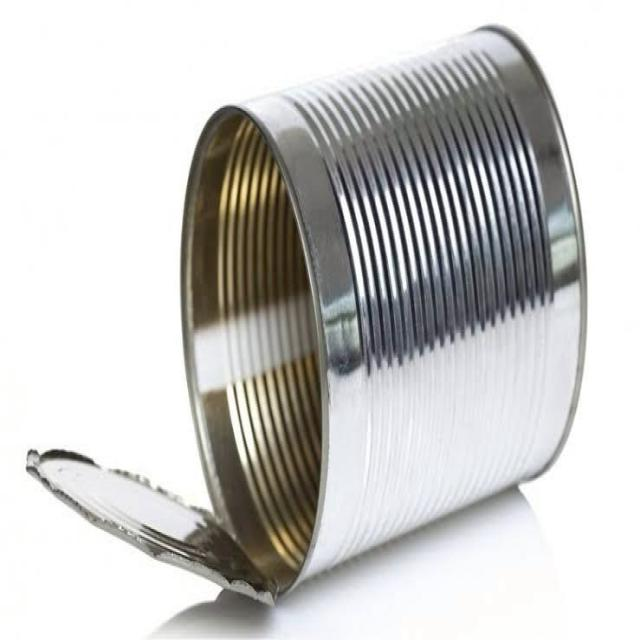can: (18, 13, 617, 615)
